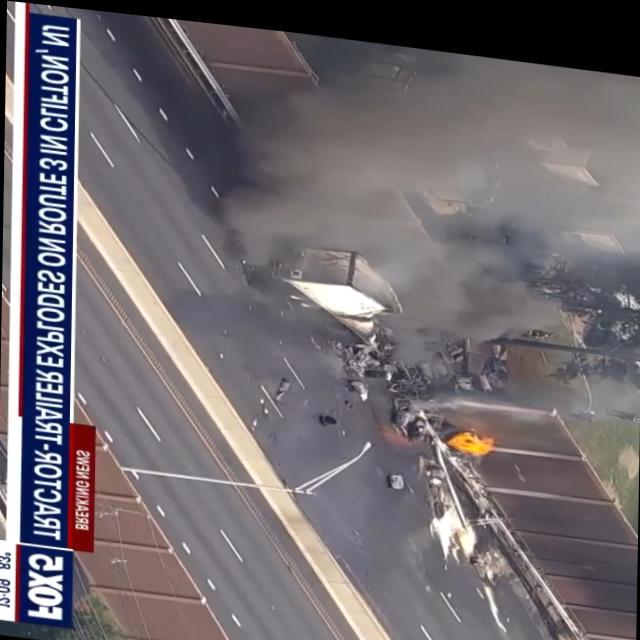fire: (442, 416, 498, 448)
